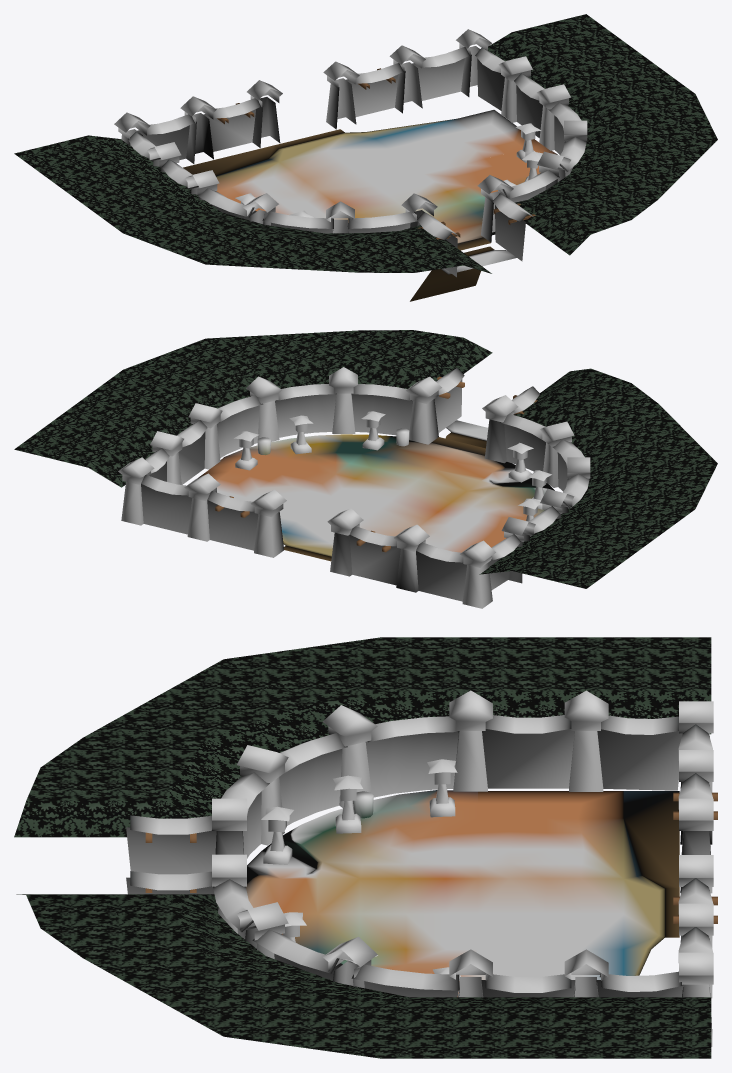
The model's file is zone10.FBX.
3 renders of one model, top to bottom at view 1: azimuth 30°, elevation 25°; view 2: azimuth 150°, elevation 25°; view 3: azimuth 270°, elevation 25°, orthographic. The views are drawn at different scales.
Parts seen in each view (by area): view 1: Object996, Object02; view 2: Object996, Object02; view 3: Object996, Object02.
Part boxes in pixels (x1=…): Object996: x1=114, y1=29, x2=587, y2=301; Object02: x1=14, y1=14, x2=717, y2=273; Object996: x1=118, y1=367, x2=590, y2=608; Object02: x1=14, y1=330, x2=717, y2=588; Object996: x1=126, y1=690, x2=717, y2=1046; Object02: x1=14, y1=637, x2=711, y2=1058.
Bounding box in the file's own units: 4174 × 803 × 2947.
